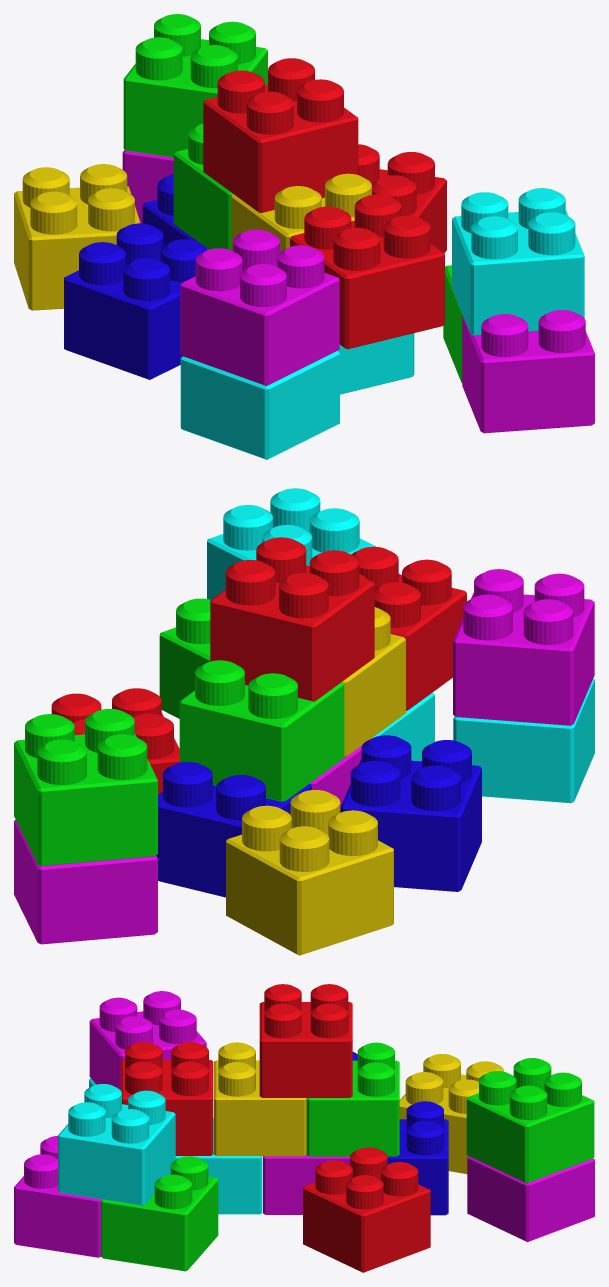
Rendered from cubo.fbx.
3 renders of one model, top to bottom at view 1: azimuth 30°, elevation 25°; view 2: azimuth 150°, elevation 25°; view 3: azimuth 270°, elevation 25°, orthographic. The views are drawn at different scales.
Visible parts, largest first — view 1: Cube.010, Cube.009, Cube.006, Cube.015, Cube.016, Cube.008, Cube.005, Cube.013, Cube.007, Cube.004, Cube.002, Cube.012 (+41 smaller); view 2: Cube.007, Cube.006, Cube.013, Cube.004, Cube.010, Cube.012, Cube.009, Cube.008, Cube.001, Cube.003, Cube.005, Cube.014 (+39 smaller); view 3: Cube.013, Cube.011, Cube.012, Cube.016, Cube.014, Cube.006, Cube.003, Cube.004, Cube.015, Cube.005, Cube.002, Cube (+40 smaller).
Boxes of the visible parts, x1,y1,x2,y2 form: Cube.010: (180,273,339,385); Cube.009: (180,351,339,459); Cube.006: (203,84,358,212); Cube.015: (462,316,594,433); Cube.016: (452,210,584,335); Cube.008: (64,270,182,379); Cube.005: (290,220,444,349); Cube.013: (123,39,267,157); Cube.007: (14,186,140,310); Cube.004: (173,149,233,250); Cube.002: (337,333,414,394); Cube.012: (122,150,173,223); Cube.007: (226,828,393,955); Cube.006: (210,565,374,701); Cube.013: (14,733,157,866); Cube.004: (179,682,344,801); Cube.010: (453,593,594,725); Cube.012: (14,820,157,944); Cube.009: (453,678,594,803); Cube.008: (340,759,481,891); Cube.001: (156,783,311,897); Cube.003: (342,634,405,756); Cube.005: (390,575,466,710); Cube.014: (159,627,210,718); Cube.013: (466,1093,594,1183); Cube.011: (303,1182,430,1272); Cube.012: (467,1156,594,1241); Cube.016: (58,1104,175,1205); Cube.014: (101,1176,218,1271); Cube.006: (259,1002,352,1097); Cube.003: (214,1060,306,1156); Cube.004: (306,1060,399,1156); Cube.015: (14,1176,101,1257); Cube.005: (120,1060,213,1155); Cube.002: (175,1118,262,1214); Cube: (263,1155,349,1214).
Bounding box in the file's own units: 774 × 469 × 1251.
